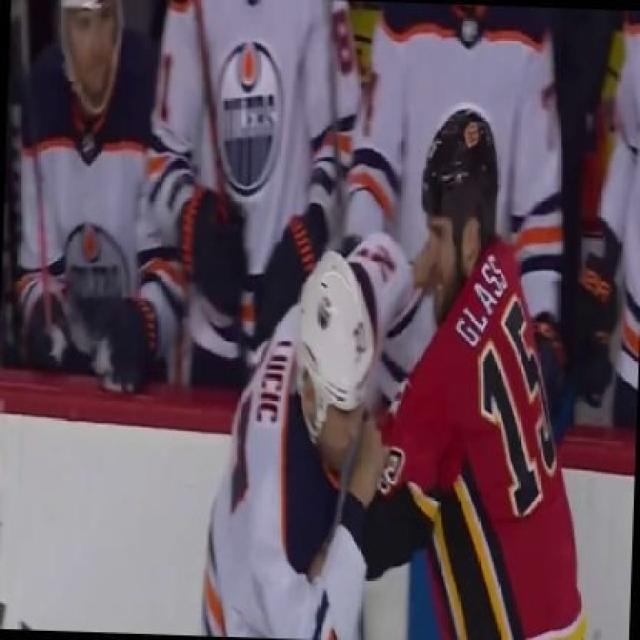fight: (160, 100, 579, 638)
